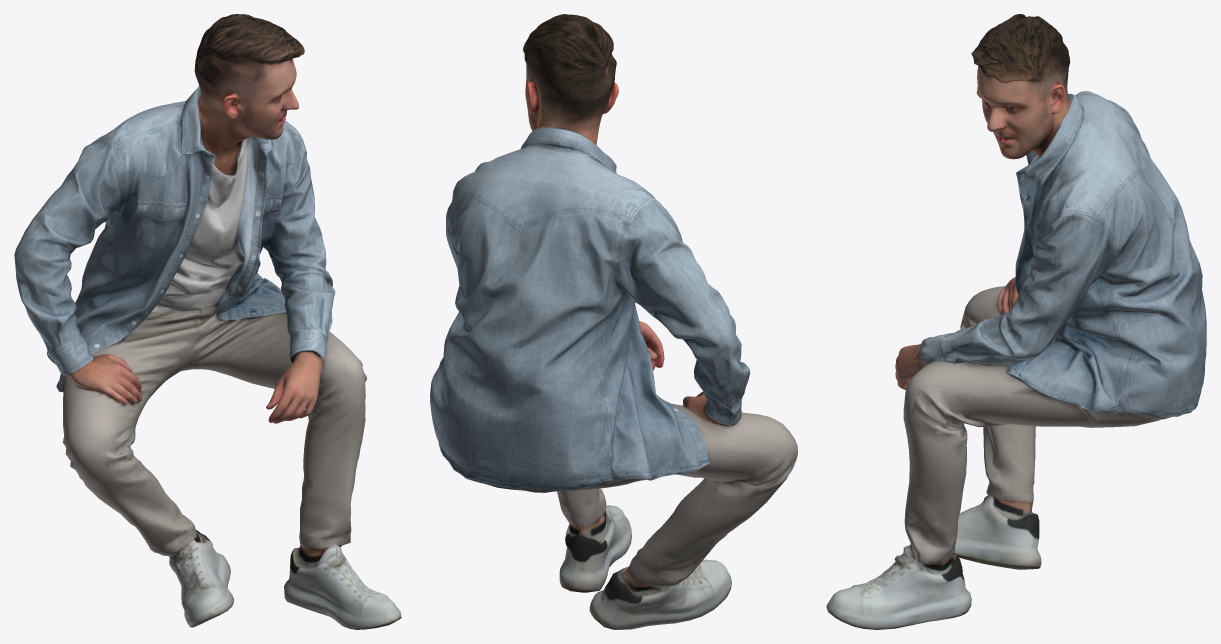
The model's file is Humano_Posed_0341842-Man_02_LOD1.fbx.
The picture shows the model from 3 angles, left to right: view 1: azimuth 30°, elevation 25°; view 2: azimuth 150°, elevation 25°; view 3: azimuth 270°, elevation 25°; orthographic projection. The views are drawn at different scales.
Visible parts, largest first — view 1: Humano_Posed_0341842-Man_02_LOD1; view 2: Humano_Posed_0341842-Man_02_LOD1; view 3: Humano_Posed_0341842-Man_02_LOD1.
Part boxes in pixels (<box>): Humano_Posed_0341842-Man_02_LOD1: <box>14,14,401,629</box>; Humano_Posed_0341842-Man_02_LOD1: <box>430,14,797,629</box>; Humano_Posed_0341842-Man_02_LOD1: <box>826,14,1206,629</box>.
Size of the model in its own units: 69.46 by 134 by 80.14.
1 material, 1 textured.
